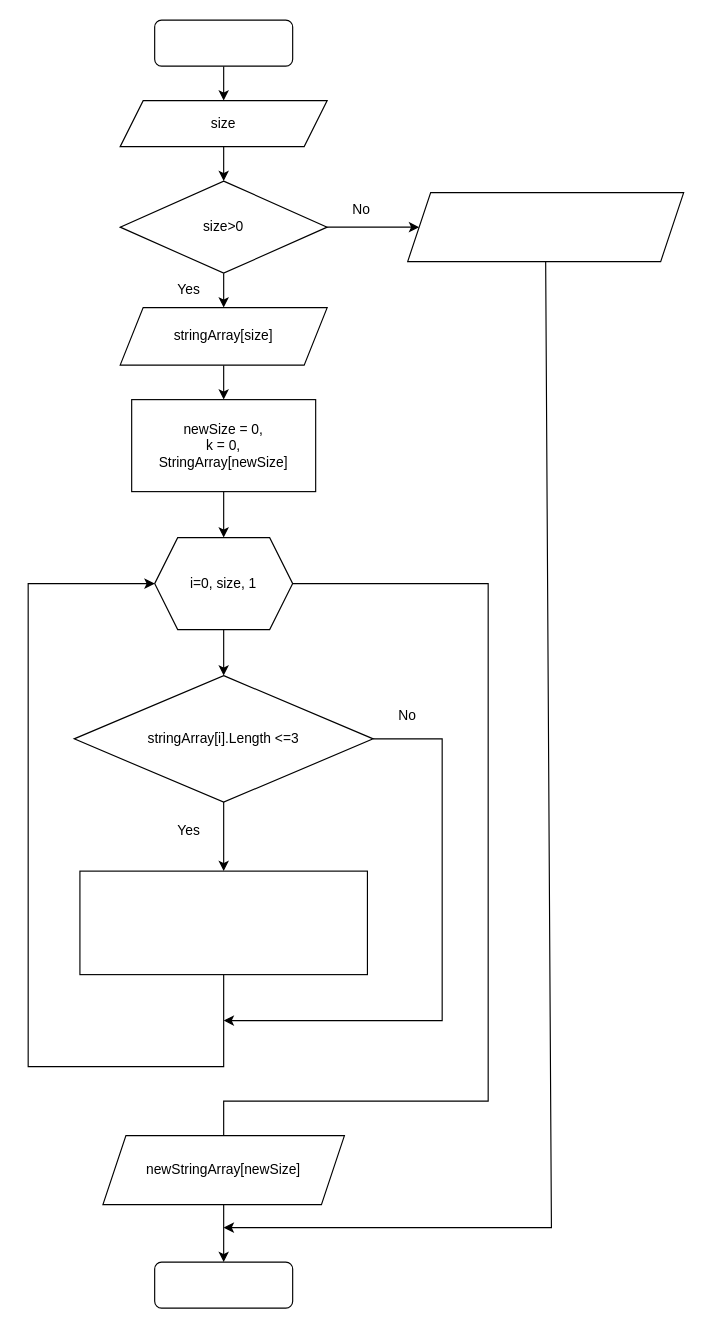
The diagram is 704 pixels wide and 1328 high, and some of its shapes have lost their labels. Each missing label, with the centre of its shape:
Finish: (223,1284)
newSize ++ resize newStringArray[newSize] newStringArray[k] = stringArray[i] k++: (223,922)
Print: error text: (545,226)
Start: (223,42)
